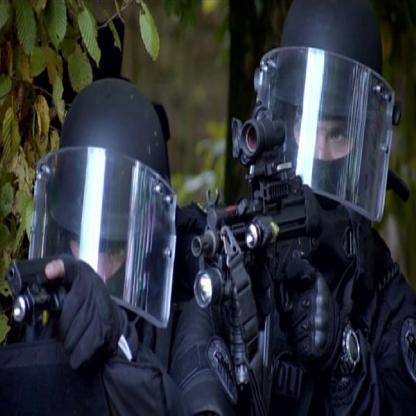Gun: (188, 108, 363, 414), (6, 244, 83, 344)
